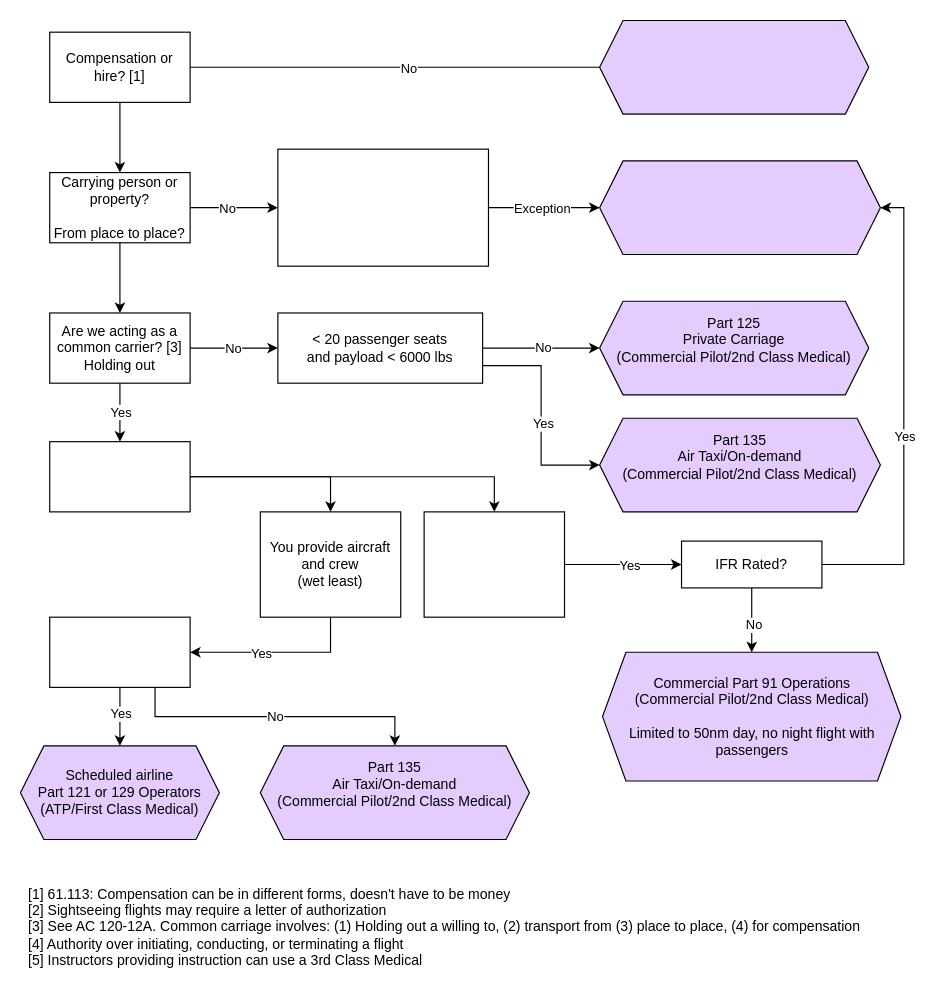
This 935x1000 diagram has some shape labels left out. Each missing label, with the box of its shape:
119.1 Exceptions (flight instruction, skydiving, banner towing, sightseeing [2]): (277, 148, 488, 266)
Client provides the aircraft, you provide crew (dry lease) 91.501: (423, 511, 565, 617)
Commercial Part 91 Operations (Commercial Pilot/2nd Class Medical [5]): (598, 160, 880, 254)
Do we have operational control? [4]: (49, 441, 190, 512)
Is this a scheduled flight?: (49, 616, 190, 687)
Private Part 91 Operations (Private Pilot/3rd Class Medical): (598, 19, 869, 114)
